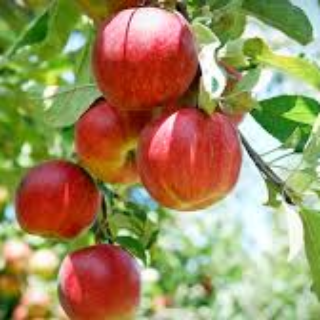tao: (135, 103, 245, 215), (92, 6, 203, 112), (13, 159, 101, 243), (55, 243, 145, 319)
